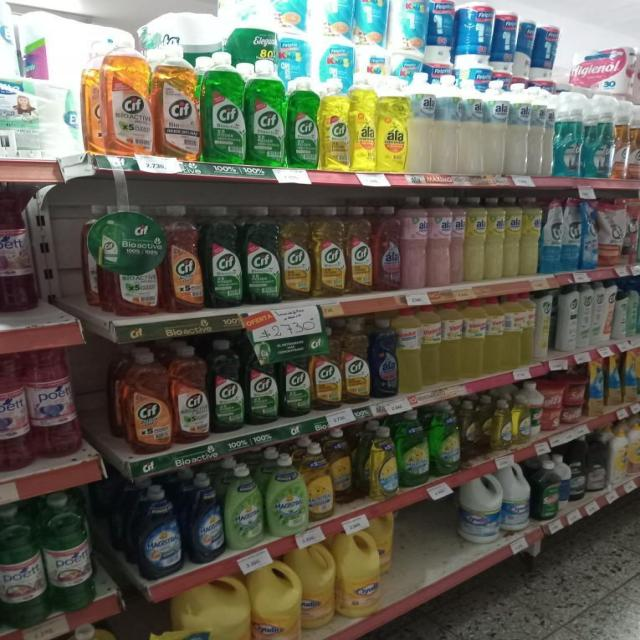ala_conc_amarillo: (378, 77, 408, 173), (351, 72, 377, 172)
ala_conc_rojo: (374, 205, 400, 292)
ala_crem_amarillo: (466, 196, 486, 282), (522, 196, 540, 276), (487, 196, 504, 280), (505, 196, 521, 278)
ala_crem_rosado: (402, 196, 428, 290), (428, 196, 451, 288), (451, 196, 465, 285)
cif_conc_bot_amarilla: (313, 205, 345, 298), (281, 205, 312, 301), (320, 77, 350, 171), (312, 324, 342, 410), (342, 318, 370, 404), (347, 205, 372, 294)
cif_conc_botella_roja: (118, 348, 170, 453), (154, 46, 199, 160), (165, 204, 202, 313), (172, 345, 209, 444)
cif_conc_botella_verde: (202, 51, 245, 164), (247, 58, 285, 166), (204, 205, 242, 309), (244, 206, 280, 306), (210, 339, 244, 433), (288, 75, 318, 169), (246, 340, 279, 424), (280, 350, 310, 418)
